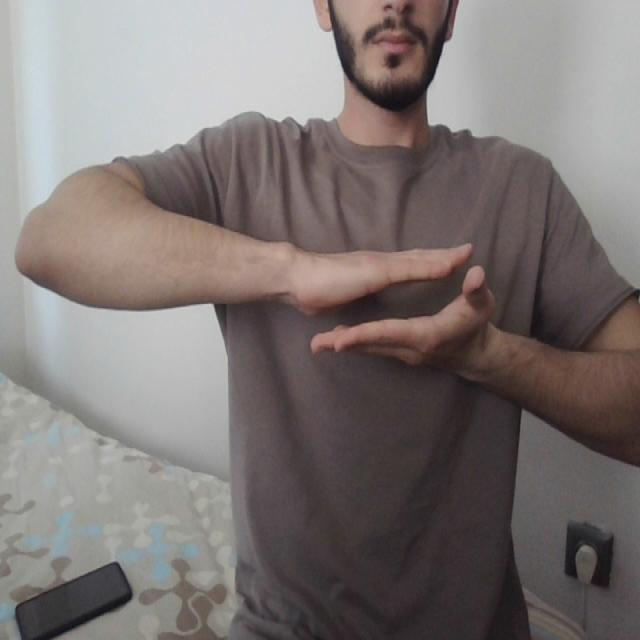Arkadas: (177, 188, 592, 433)
